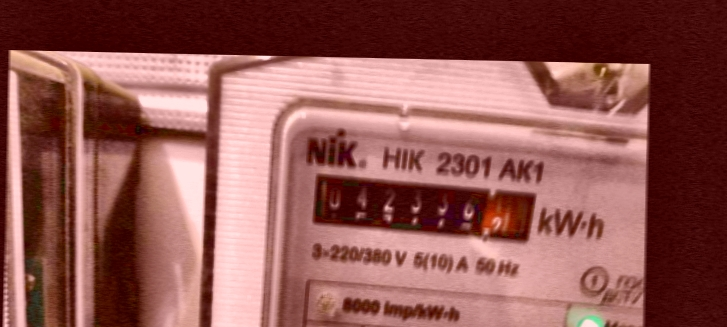0: (326, 179, 340, 208)
2: (378, 182, 397, 209)
3: (405, 182, 422, 212), (434, 184, 449, 212)
4: (352, 180, 369, 208)
6: (459, 191, 475, 218)
screen: (301, 161, 542, 247)
